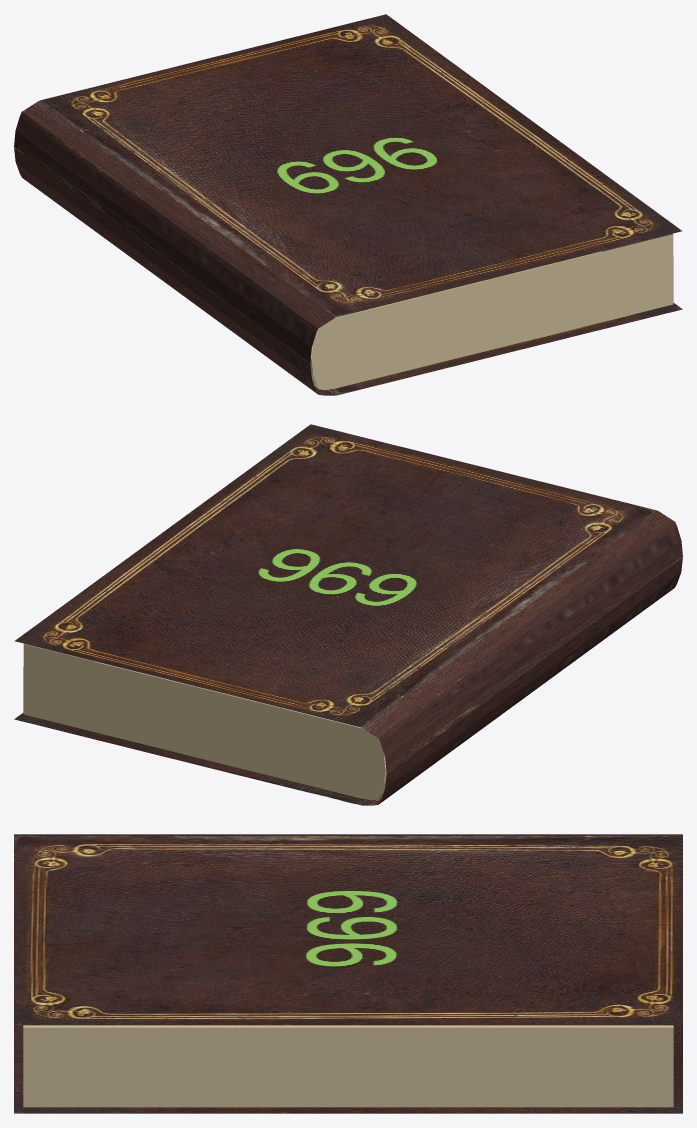
Rendered from Libro696.fbx.
3 views of the same model, one above another, from view 1: azimuth 30°, elevation 25°; view 2: azimuth 150°, elevation 25°; view 3: azimuth 270°, elevation 25° (orthographic). The views are drawn at different scales.
Visible parts, largest first — view 1: Cub.002, Cub; view 2: Cub.002, Cub; view 3: Cub.002, Cub.
Part boxes in pixels (bbox=[...]): Cub.002: bbox=[14, 14, 682, 395]; Cub: bbox=[24, 154, 673, 390]; Cub.002: bbox=[14, 424, 682, 805]; Cub: bbox=[23, 564, 672, 800]; Cub.002: bbox=[14, 834, 682, 1113]; Cub: bbox=[23, 1025, 673, 1107].
Size of the model in its own units: 149 by 30.63 by 206.
